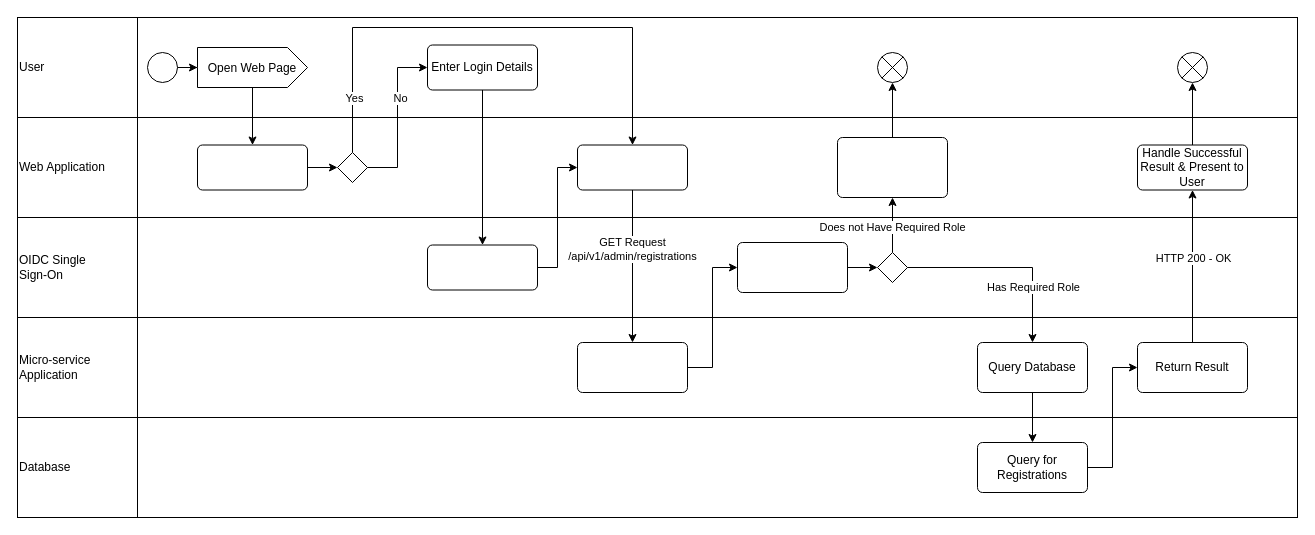
Image size: 1315x535. Some labels were removed from this diagram. The shapes that lost their labels are listed below. From the top down, each one's centre as x and y in pixels, then its label:
At [252,167]: "Check if User is Logged in".
At [632,167]: "Send Query to Application".
At [892,167]: "Handle Unauthorised Result & Present to User".
At [482,267]: "Issue Token".
At [792,267]: "Validate Token".
At [632,367]: "Receive Query".
